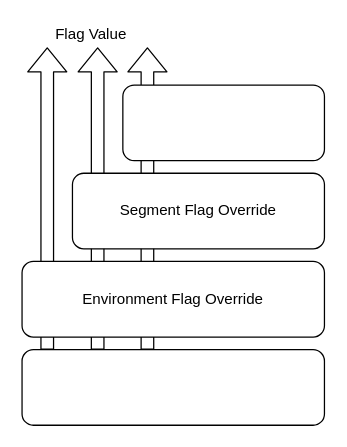
Image size: 347x447. Some labels were removed from this diagram. Each missing label, with the centre of its shape:
"Identity Flag Override" goes at pixel 223 122.
"Project Flag Value" goes at pixel 172 386.
